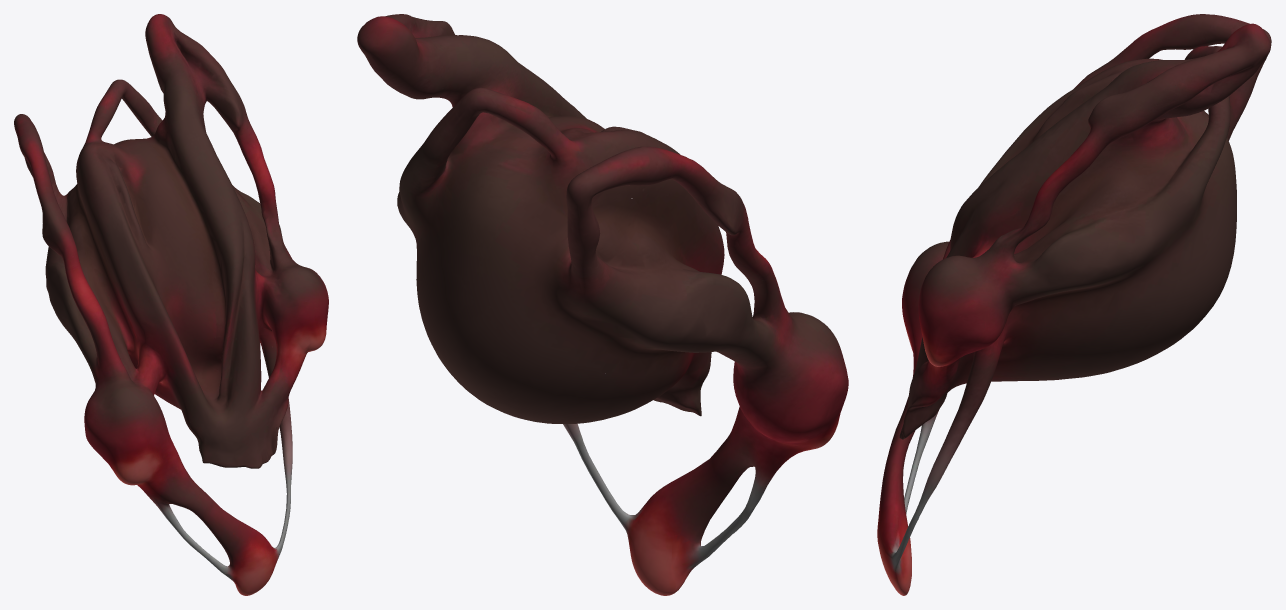
The model's file is enemy_erix.glb.
The picture shows the model from 3 angles, left to right: view 1: azimuth 30°, elevation 25°; view 2: azimuth 150°, elevation 25°; view 3: azimuth 270°, elevation 25°; orthographic projection. The views are drawn at different scales.
Visible parts, largest first — view 1: tripo_node_c86e8ca5-976e-44f2-a355-1502cb0830c7; view 2: tripo_node_c86e8ca5-976e-44f2-a355-1502cb0830c7; view 3: tripo_node_c86e8ca5-976e-44f2-a355-1502cb0830c7.
Part boxes in pixels (x1,y1,x2,y2): tripo_node_c86e8ca5-976e-44f2-a355-1502cb0830c7: (14, 14, 328, 595); tripo_node_c86e8ca5-976e-44f2-a355-1502cb0830c7: (357, 14, 848, 595); tripo_node_c86e8ca5-976e-44f2-a355-1502cb0830c7: (877, 14, 1271, 595).
Size of the model in its own units: 0.5218 by 0.9792 by 0.5857.
1 material, 1 textured.
